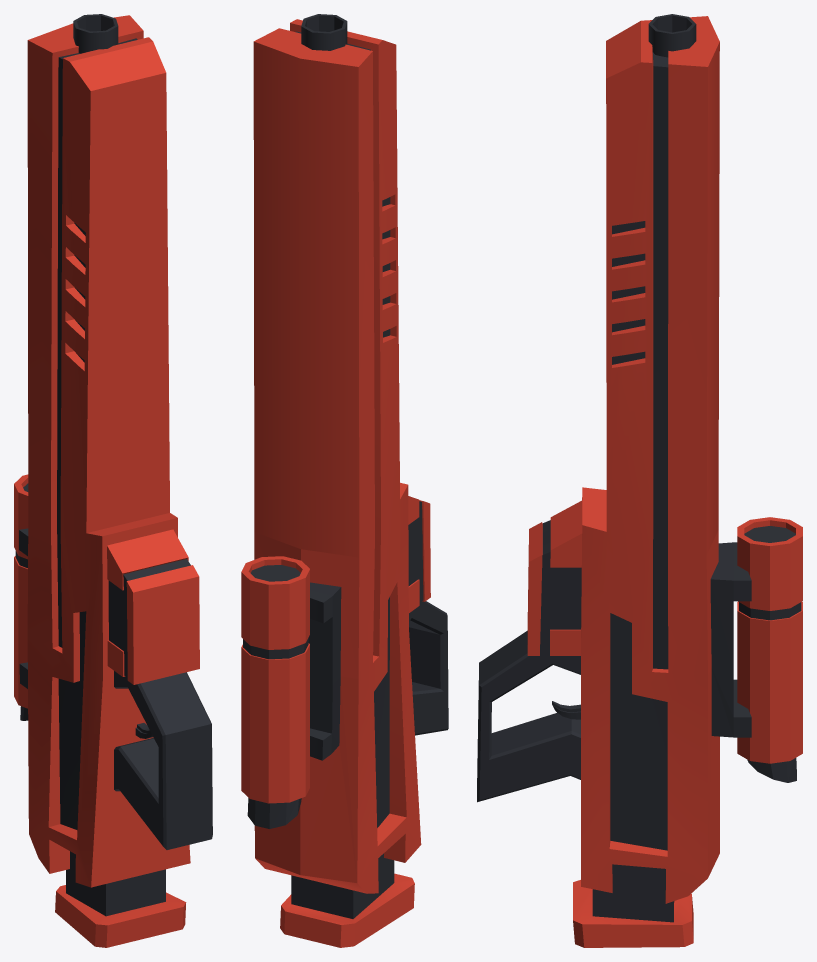
Rendered from low poly scifi gun031.fbx.
3 renders of one model, left to right at view 1: azimuth 30°, elevation 25°; view 2: azimuth 150°, elevation 25°; view 3: azimuth 270°, elevation 25°, orthographic. The views are drawn at different scales.
Parts seen in each view (by area): view 1: low poly scifi gun031; view 2: low poly scifi gun031; view 3: low poly scifi gun031.
Part boxes in pixels (x1=…): low poly scifi gun031: x1=14, y1=14, x2=212, y2=947; low poly scifi gun031: x1=241, y1=14, x2=448, y2=947; low poly scifi gun031: x1=477, y1=14, x2=802, y2=947.
Size of the model in its own units: 3.2 by 26.48 by 8.64.
